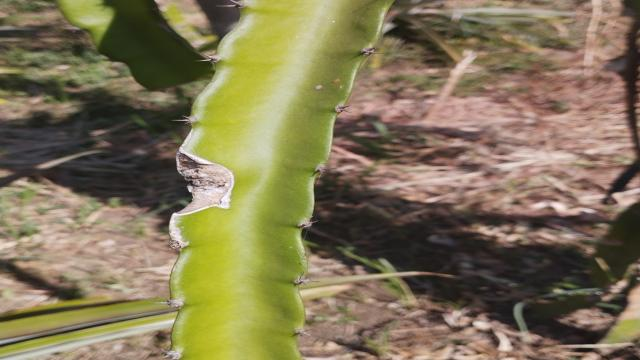stemcanker: (304, 79, 327, 97), (327, 71, 345, 89)
